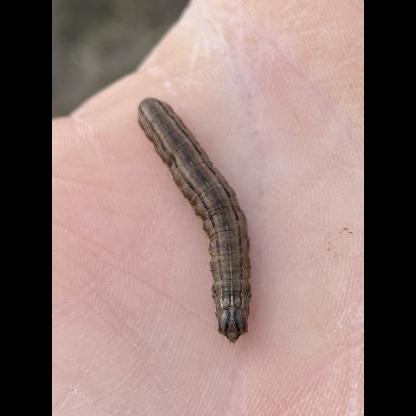Fall Armyworm Larvae: (134, 93, 258, 347)
